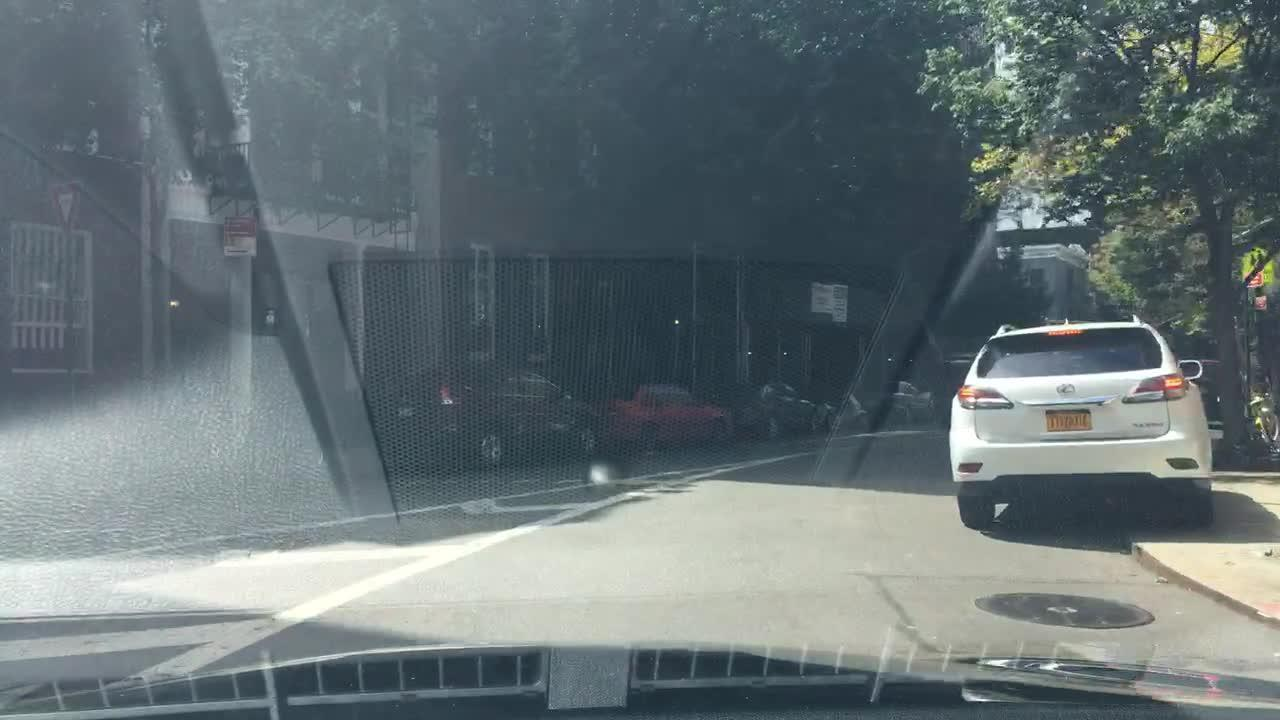lexus: (1050, 374, 1086, 402)
